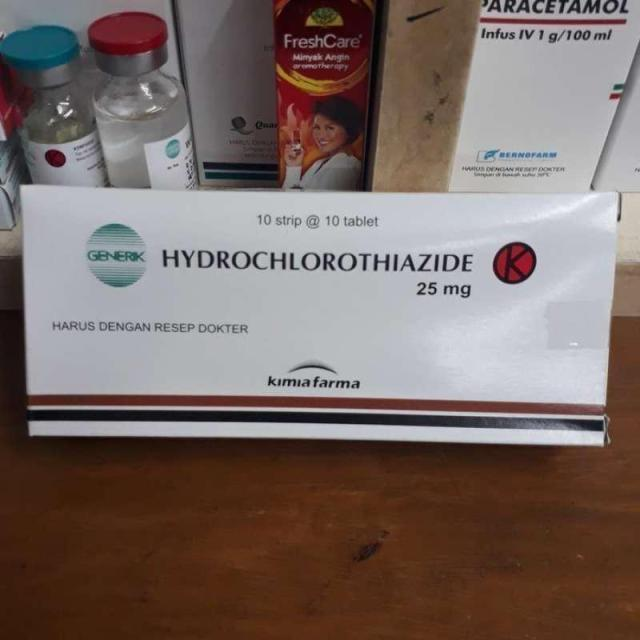drug-name: (156, 240, 478, 280)
